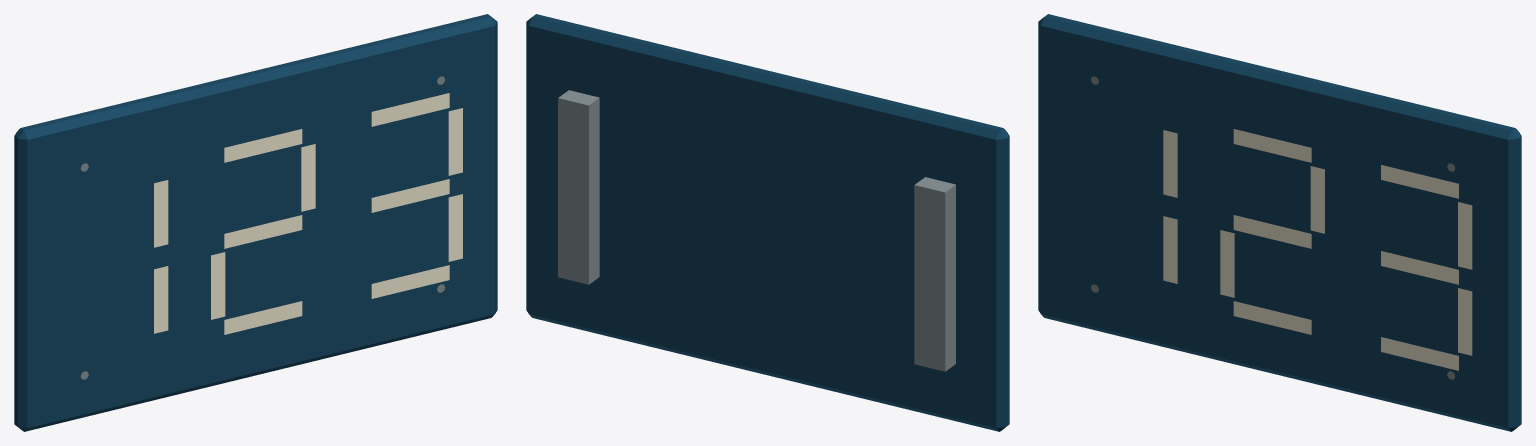
File: block_sign.glb
3 renders of one model, left to right at view 1: azimuth 30°, elevation 25°; view 2: azimuth 150°, elevation 25°; view 3: azimuth 330°, elevation 25°, orthographic.
Parts seen in each view (by area): view 1: plate.001, plate; view 2: plate.001, metal; view 3: plate.001, plate.
Part boxes in pixels (x1,y1,x2,y2): plate.001: [14, 14, 497, 431]; plate: [154, 93, 462, 334]; plate.001: [526, 14, 1009, 431]; metal: [558, 90, 955, 371]; plate.001: [1038, 14, 1521, 431]; plate: [1163, 129, 1472, 370].
Size of the model in its own units: 1.4 by 0.84 by 0.1195.
